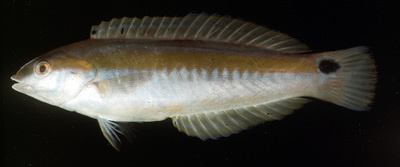fish: (10, 12, 377, 151)
